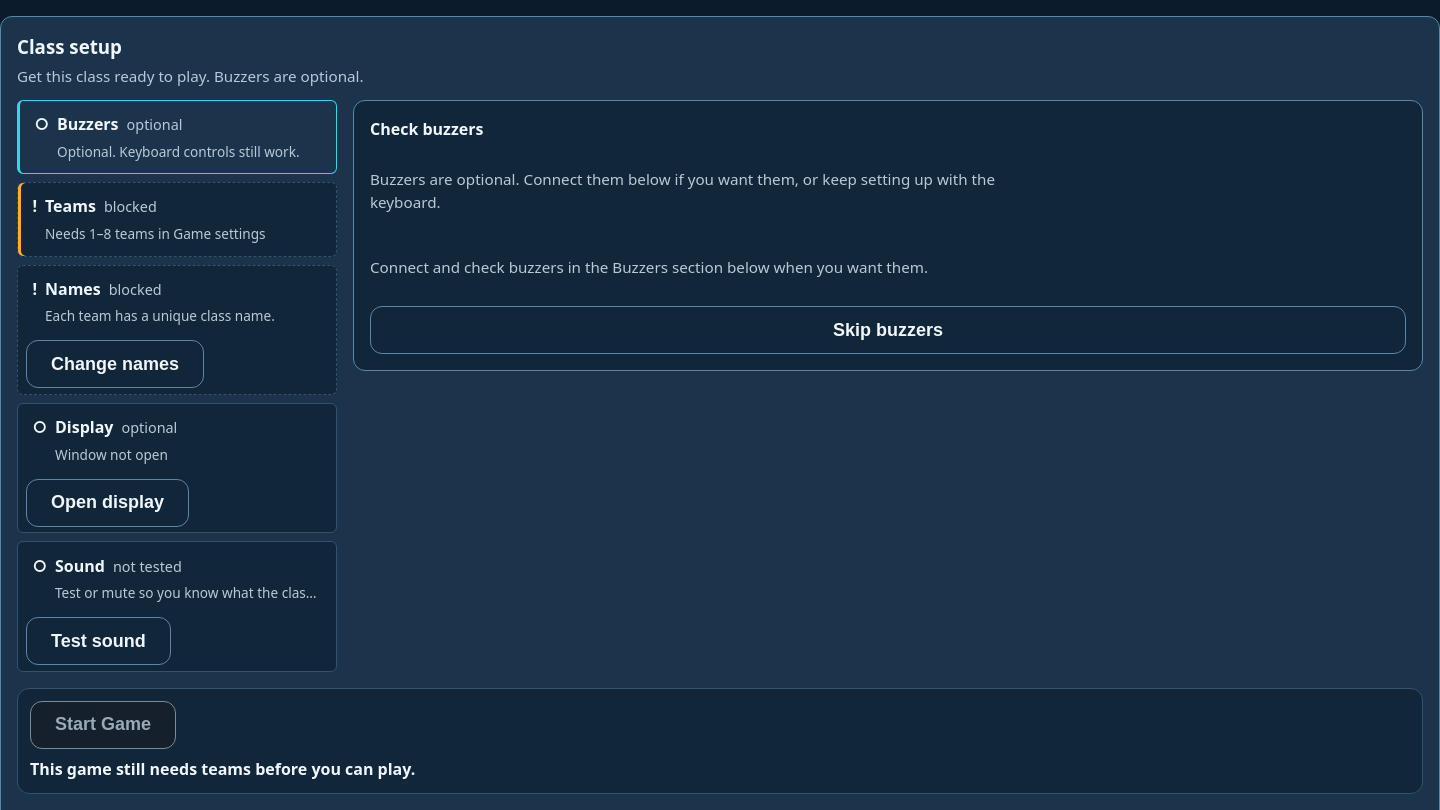
Test: ClassroomSetupPanel › hides name controls when Names is expanded while teams are blocked
Click the button with test id "readiness-names" at coordinates (73, 289), box top-left (26, 271), bottom-right (328, 332)
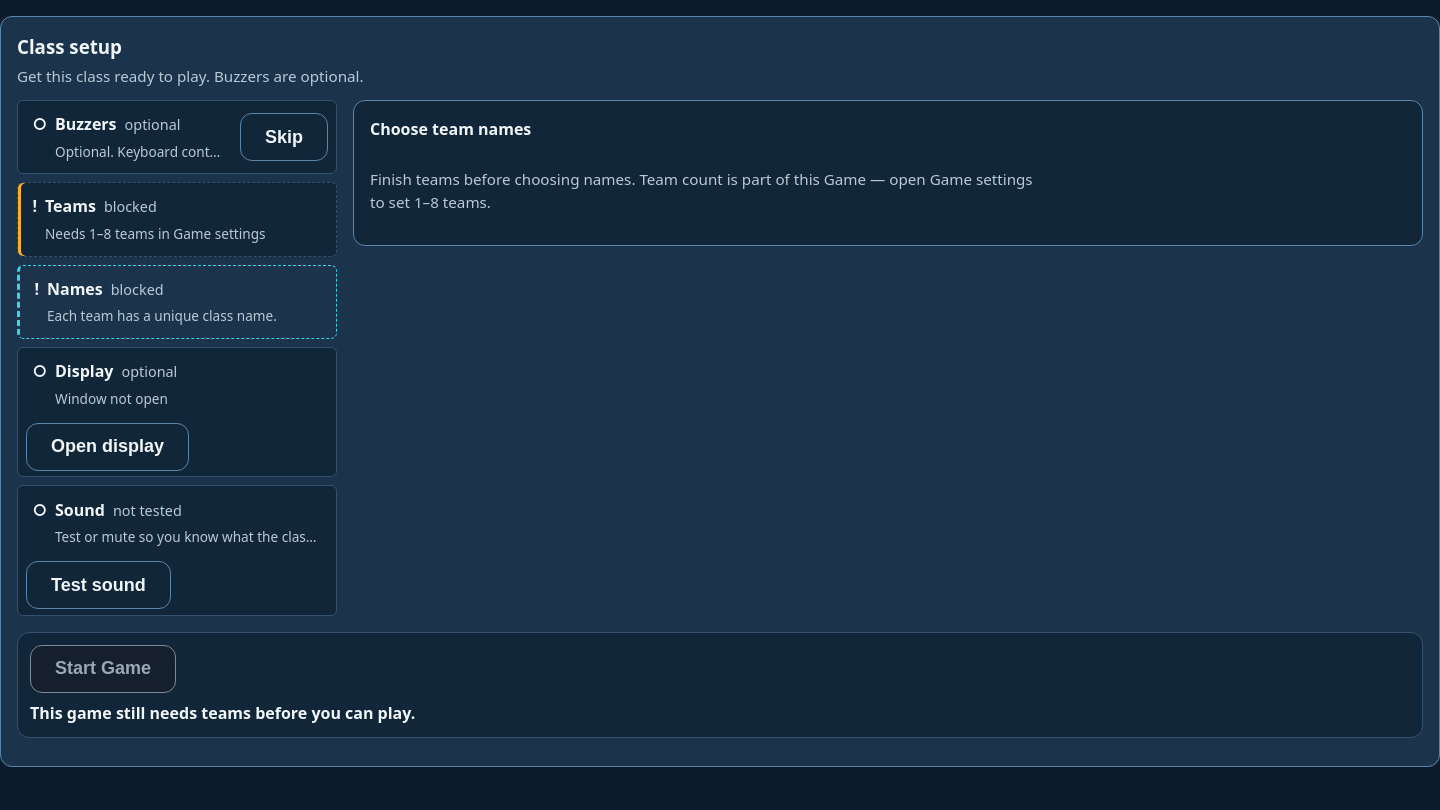
Expected: the text with test id "setup-names-blocked-copy" shows "Finish teams", top-left (370, 169), bottom-right (1033, 212)
